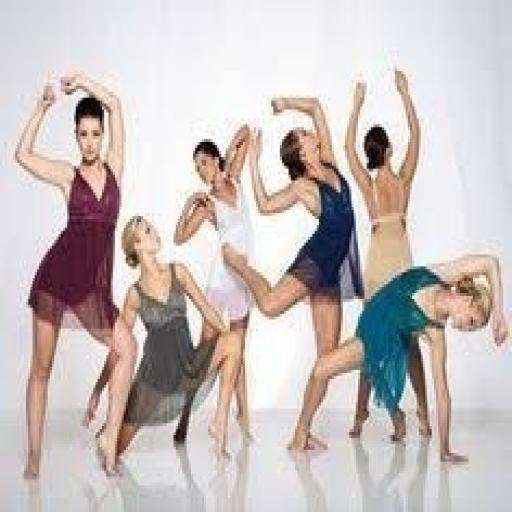dancing: (219, 92, 367, 456), (286, 248, 510, 468), (13, 68, 128, 482), (83, 210, 232, 480), (342, 65, 430, 444), (172, 121, 258, 456)
